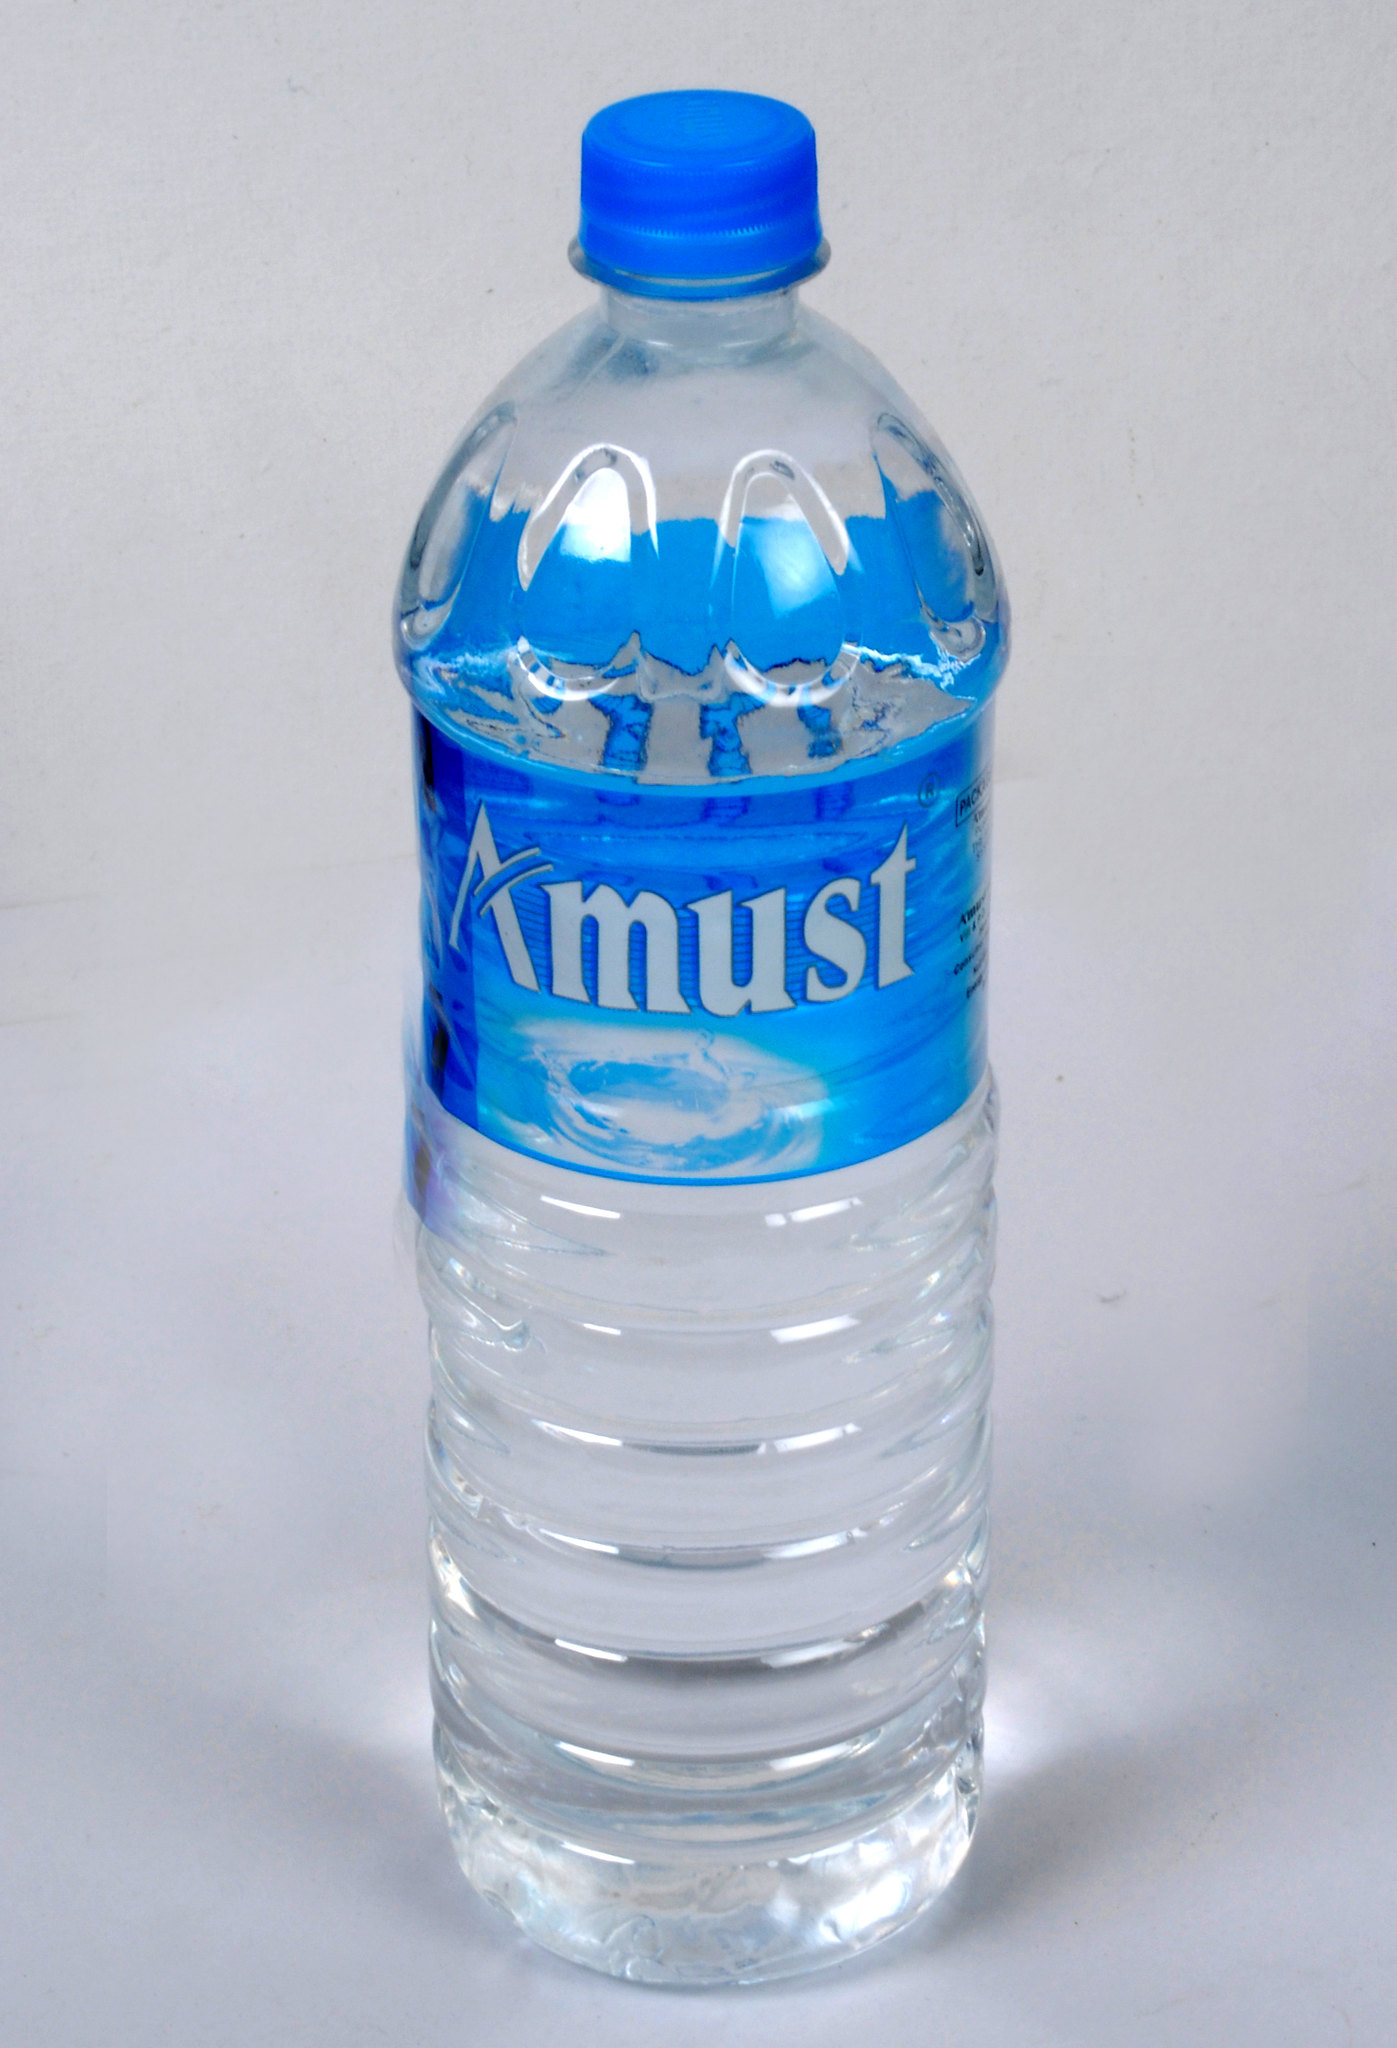bottle: (364, 75, 1017, 1981)
